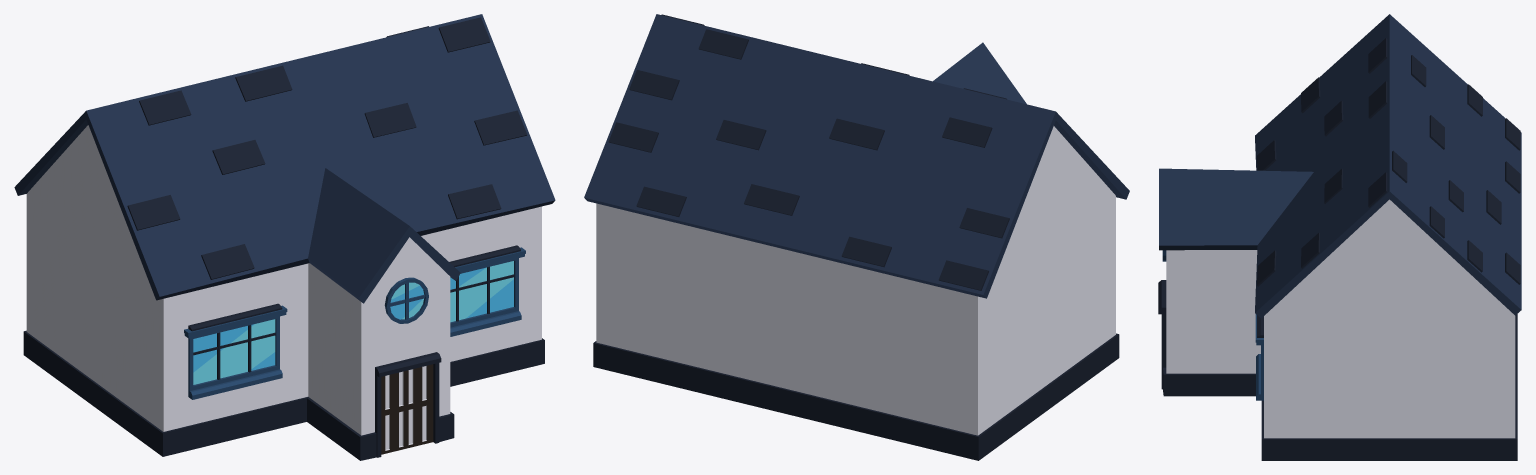
The model's file is Env_ResidentBuilding_04.fbx.
3 renders of one model, left to right at view 1: azimuth 30°, elevation 25°; view 2: azimuth 150°, elevation 25°; view 3: azimuth 270°, elevation 25°, orthographic. The views are drawn at different scales.
Parts seen in each view (by area): view 1: Env_ResidentBuilding_04; view 2: Env_ResidentBuilding_04; view 3: Env_ResidentBuilding_04.
Part boxes in pixels (x1,y1,x2,y2): Env_ResidentBuilding_04: (14, 14, 555, 460); Env_ResidentBuilding_04: (584, 14, 1129, 460); Env_ResidentBuilding_04: (1158, 14, 1521, 460).
Bounding box in the file's own units: 1087 × 780 × 941.
